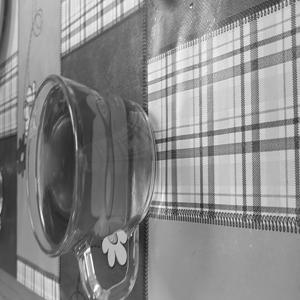tea: (9, 63, 179, 256)
